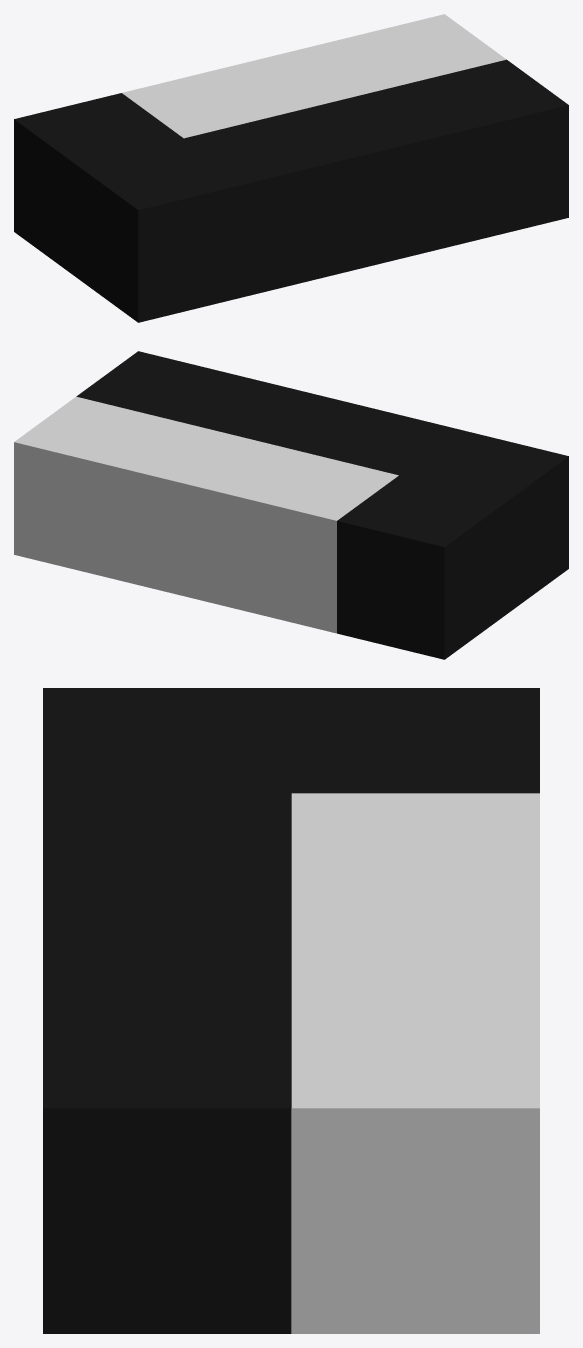
Rendered from handle3.obj.
3 views of the same model, one above another, from view 1: azimuth 30°, elevation 25°; view 2: azimuth 150°, elevation 25°; view 3: azimuth 270°, elevation 25° (orthographic). The views are drawn at different scales.
Bounding box in the file's own units: 0.4 × 0.1 × 0.2.
1 material, 1 textured.
